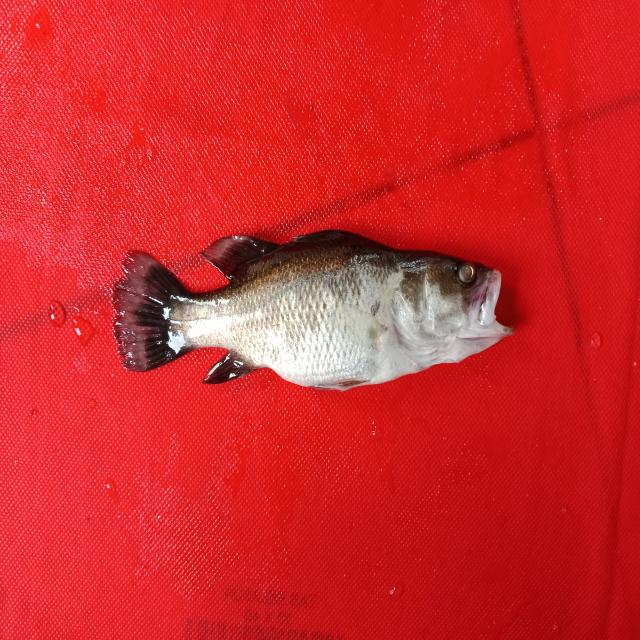ikan: (101, 223, 529, 407)
